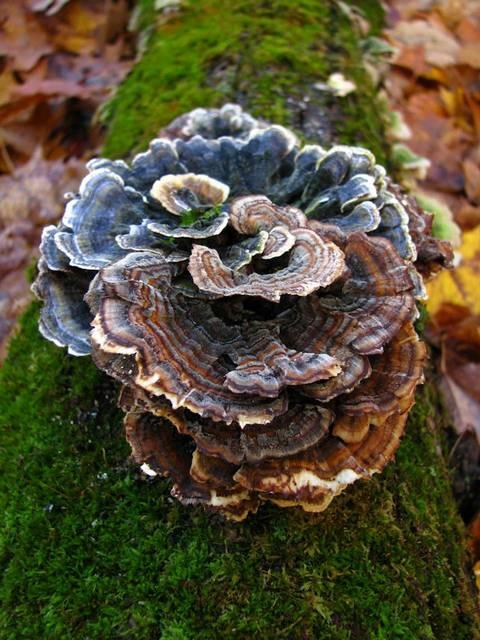Non-edible Mushroom: (29, 102, 455, 521)
